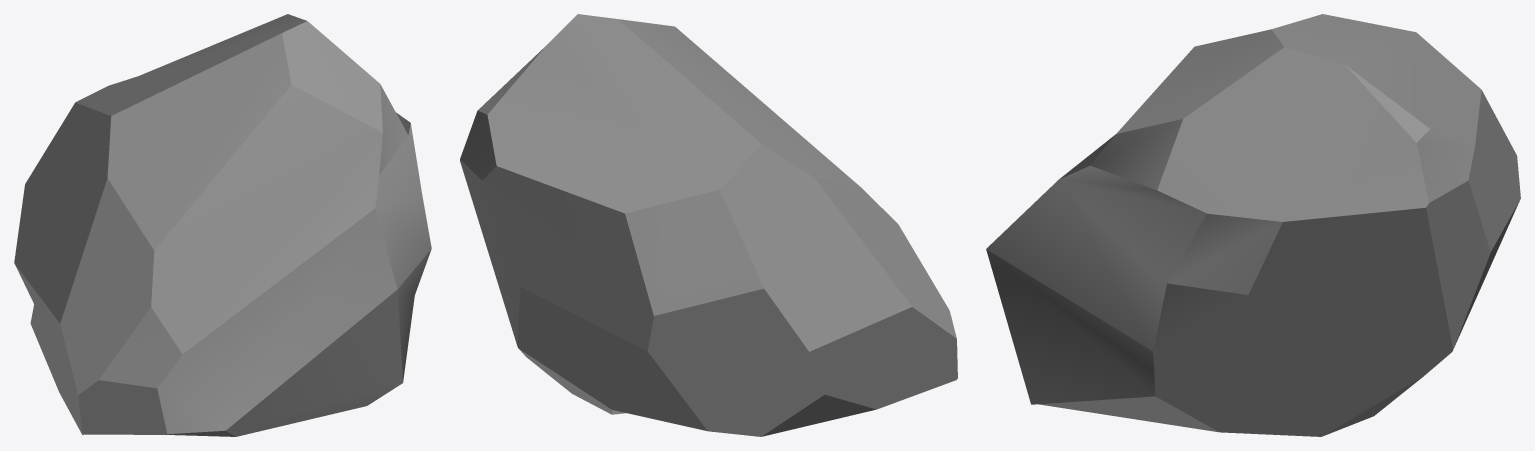
The model's file is HardRock_06.fbx.
3 views of the same model, side by side, from view 1: azimuth 30°, elevation 25°; view 2: azimuth 150°, elevation 25°; view 3: azimuth 270°, elevation 25° (orthographic). The views are drawn at different scales.
Visible parts, largest first — view 1: HardRock_06; view 2: HardRock_06; view 3: HardRock_06.
Part boxes in pixels (x1,y1,x2,y2): HardRock_06: (14, 14, 431, 436); HardRock_06: (460, 14, 957, 436); HardRock_06: (986, 14, 1520, 436).
Bounding box in the file's own units: 67.47 × 54.56 × 67.77.
